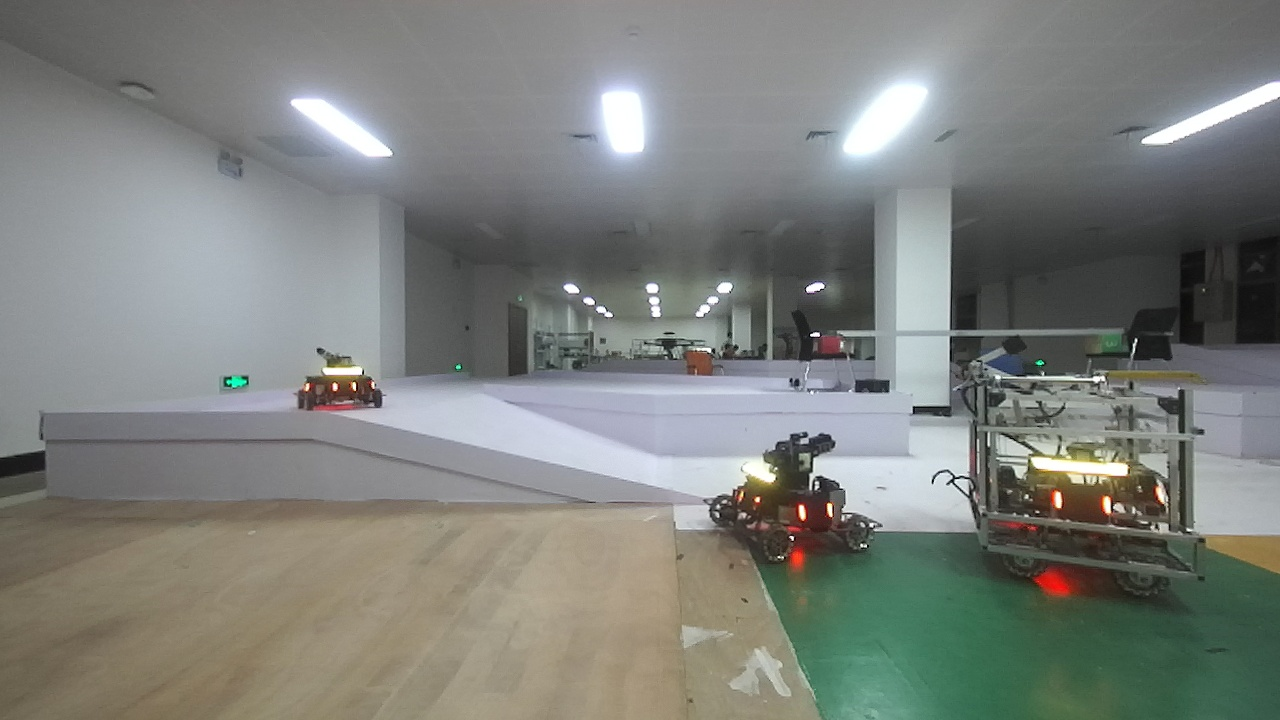car: (959, 366, 1221, 601), (705, 433, 883, 568), (288, 346, 403, 418)
